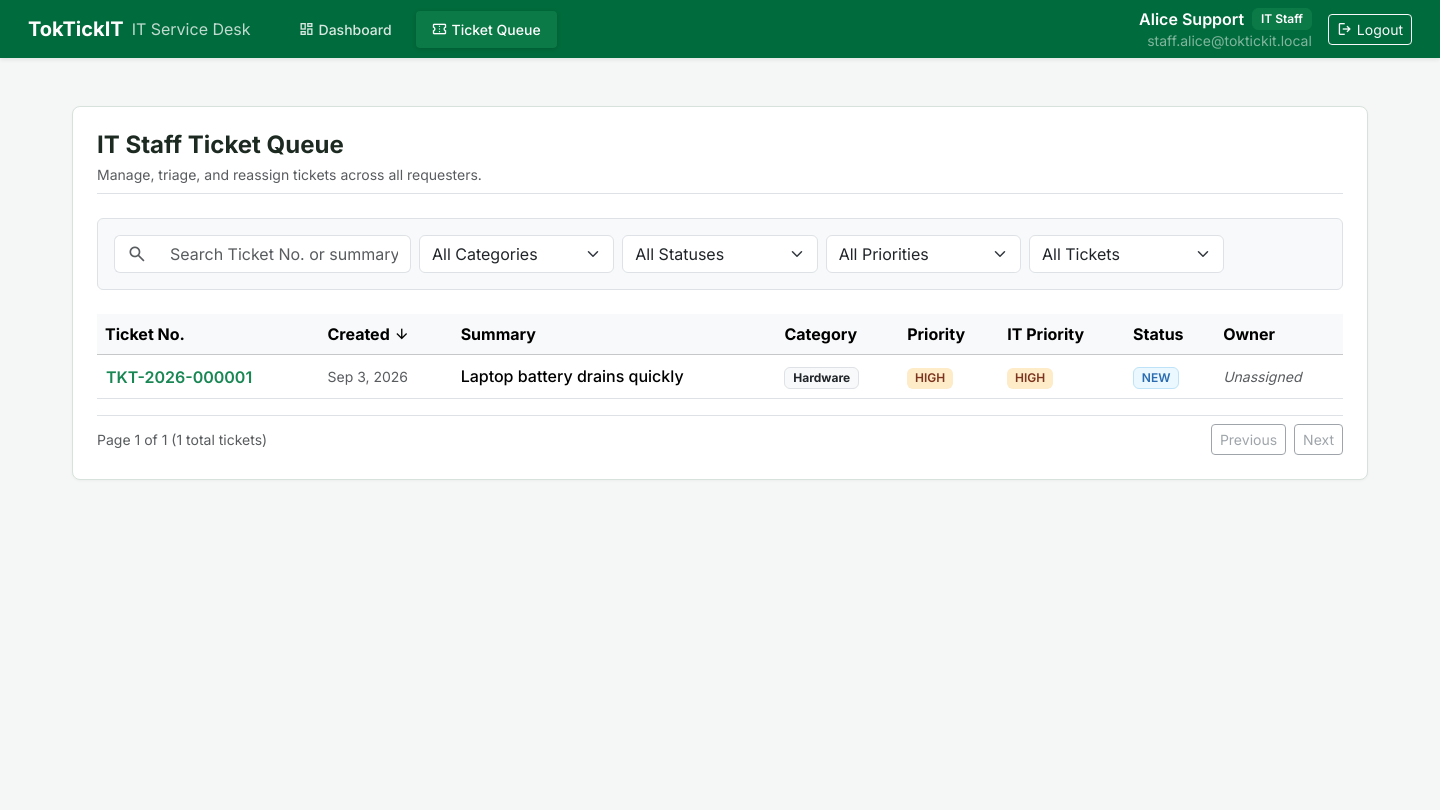
Test case: Lab 3 Staff Ticket Queue & Role Navigation Suite (client/tests/lab-03/StaffTicketQueue.test.tsx) › UI-04: Staff Ticket Queue Screen › renders no-results state with Clear Filters button when filter returns empty data (UI-04, AC-10)
Expected: the button "TKT-2026-000001" is shown, [105,364,253,390]
# Search non-existent keyword
In the field named "Search tickets": (284, 254) [158,235,411,273], type "NoSuchTicketKeyword"
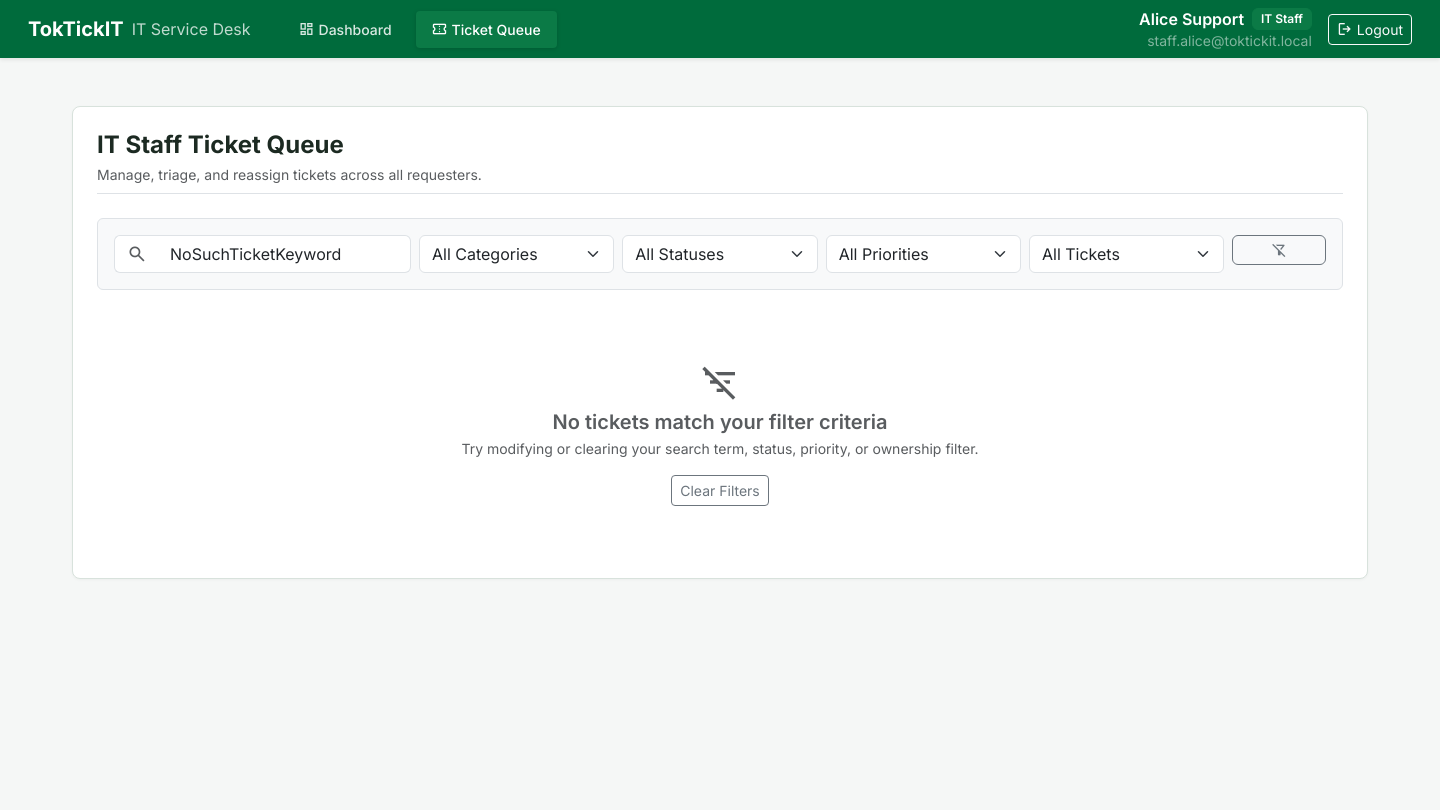
Now the heading "No tickets match your filter criteria" is shown, box [553,410,888,434]
Now the button named "Clear Filters" is shown, box [1232,235,1326,265]
